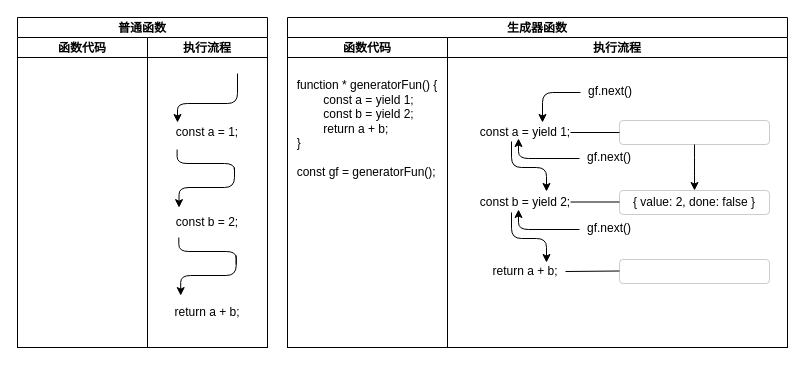
The diagram is 805 pixels wide and 365 high, and some of its shapes have lost their labels. Here are the shapes that lost their labels. From the top down, the centre of each, then its label:
At point (694, 132): "{ value: 1, done: false }".
At point (82, 202): "function normalFun() { const a = 1; const b = 2; return a + b; }".
At point (694, 271): "{ value: NaN, done: true }".
